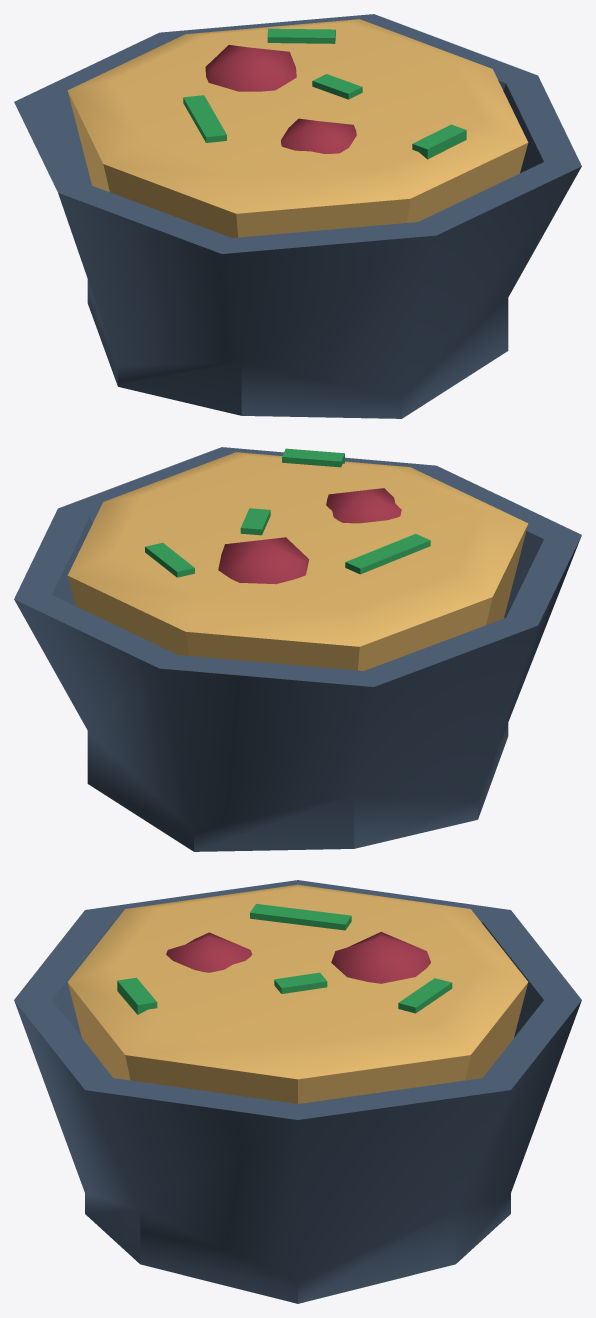
File: risotto.fbx
3 renders of one model, top to bottom at view 1: azimuth 30°, elevation 25°; view 2: azimuth 150°, elevation 25°; view 3: azimuth 270°, elevation 25°, orthographic. The views are drawn at different scales.
Visible parts, largest first — view 1: risotto_bowl, pCube9, pCube8, pCube4, pCube6, pCube7, pCube5; view 2: risotto_bowl, pCube9, pCube8, pCube4, pCube6, pCube7, pCube5; view 3: risotto_bowl, pCube9, pCube8, pCube4, pCube7, pCube6, pCube5.
Part boxes in pixels (left/top/right/bottom): risotto_bowl: left=14, top=14, right=581, bottom=418; pCube9: left=205, top=45, right=296, bottom=91; pCube8: left=281, top=118, right=356, bottom=153; pCube4: left=183, top=95, right=226, bottom=142; pCube6: left=412, top=124, right=466, bottom=159; pCube7: left=267, top=28, right=335, bottom=43; pCube5: left=312, top=74, right=362, bottom=99; risotto_bowl: left=14, top=447, right=581, bottom=851; pCube9: left=218, top=537, right=308, bottom=584; pCube8: left=326, top=488, right=401, bottom=523; pCube4: left=345, top=534, right=430, bottom=574; pCube6: left=282, top=448, right=344, bottom=467; pCube7: left=145, top=542, right=194, bottom=577; pCube5: left=240, top=508, right=270, bottom=535; risotto_bowl: left=14, top=880, right=581, bottom=1303; pCube9: left=331, top=932, right=430, bottom=983; pCube8: left=166, top=932, right=252, bottom=972; pCube4: left=250, top=903, right=351, bottom=930; pCube7: left=398, top=978, right=452, bottom=1013; pCube6: left=117, top=977, right=157, bottom=1014; pCube5: left=274, top=972, right=327, bottom=993.
Size of the model in its own units: 0.535 by 0.3057 by 0.535.
